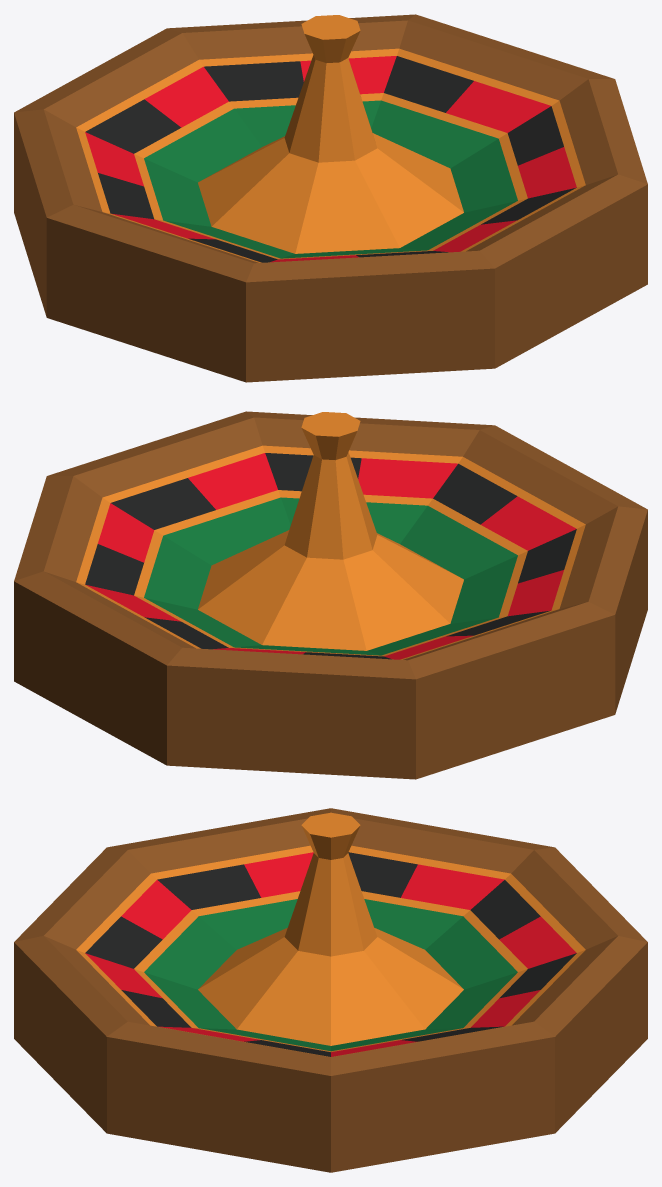
Rendered from Roulette.fbx.
The picture shows the model from 3 angles, top to bottom: view 1: azimuth 30°, elevation 25°; view 2: azimuth 150°, elevation 25°; view 3: azimuth 270°, elevation 25°; orthographic projection. The views are drawn at different scales.
Parts seen in each view (by area): view 1: Roulette; view 2: Roulette; view 3: Roulette.
Boxes of the visible parts, x1,y1,x2,y2 form: Roulette: [14, 14, 647, 382]; Roulette: [14, 411, 647, 779]; Roulette: [14, 808, 647, 1172].
Size of the model in its own units: 78.21 by 29.09 by 78.21.
